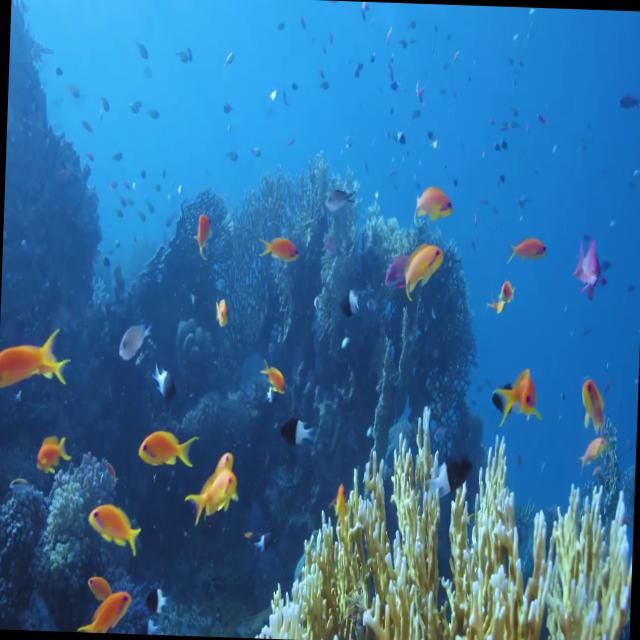fish: (135, 414, 203, 484), (89, 488, 144, 558), (486, 364, 543, 431), (0, 322, 59, 386), (566, 227, 610, 310), (180, 468, 236, 531), (105, 307, 154, 370), (398, 232, 444, 298), (78, 578, 130, 634), (252, 223, 312, 271), (573, 370, 613, 432), (408, 170, 457, 220), (478, 278, 520, 326), (314, 180, 364, 220), (503, 227, 552, 265), (275, 409, 315, 454), (256, 350, 289, 402), (570, 430, 608, 475), (147, 350, 181, 396), (34, 432, 70, 475), (36, 346, 72, 389), (188, 198, 211, 260), (332, 281, 362, 323), (202, 294, 236, 329), (86, 555, 111, 599), (212, 445, 232, 476)
